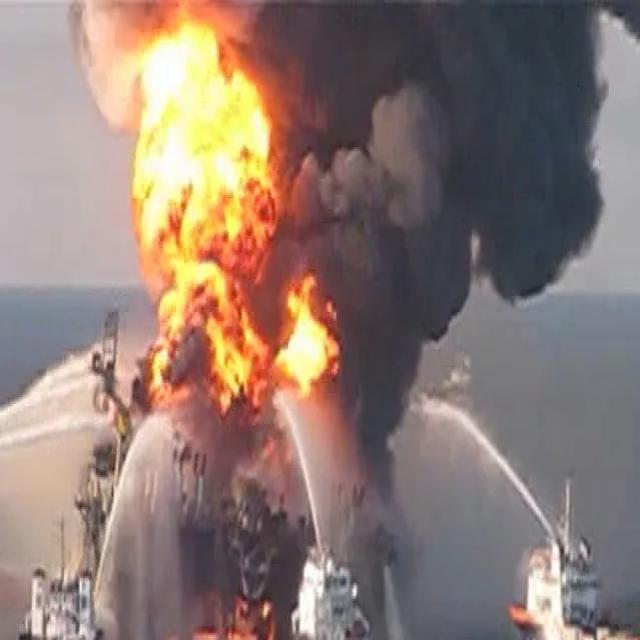fire: (88, 11, 324, 417)
